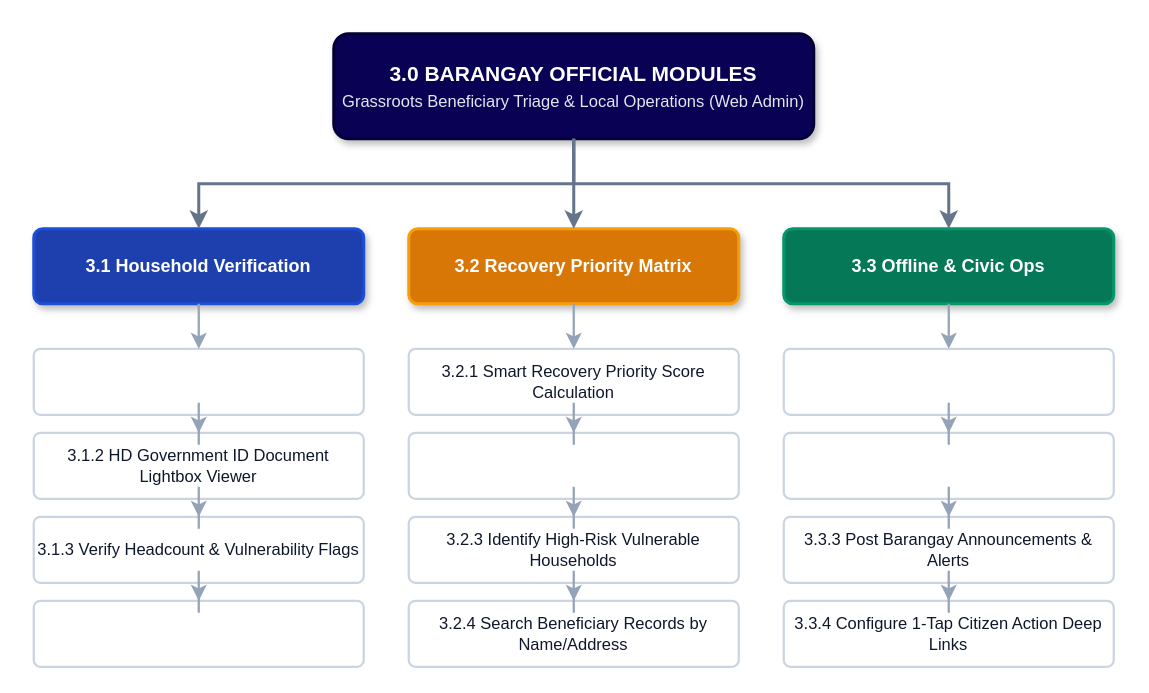
The diagram is 1149 pixels wide and 693 high, and some of its shapes have lost their labels. Each missing label, with the centre of its shape:
3.1.1 Review Pending Resident Registrations: point 198,381
3.1.4 Approve / Reject with Custom Audit Notes: point 198,633
3.2.2 Filter by Damage Severity (Total, Severe, etc.): point 573,465
3.3.1 Encode Special Relief for Non-Smartphone Citizens: point 948,381
3.3.2 Specify Bedridden / Elderly Delivery Address: point 948,465
